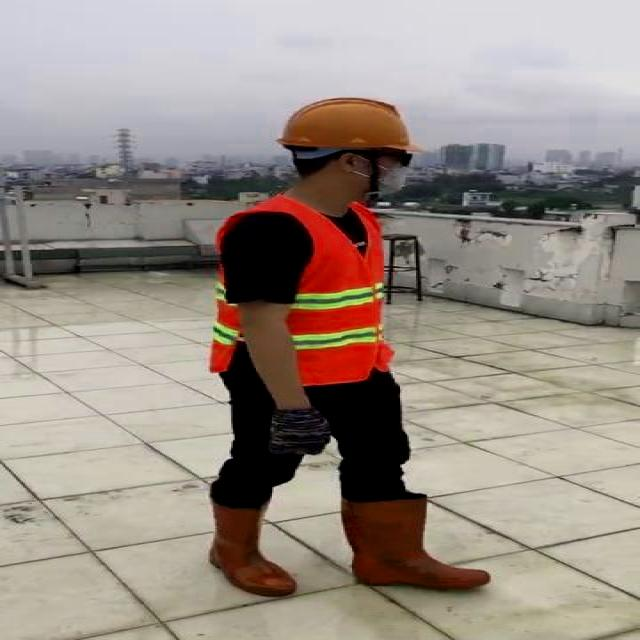boots: (340, 495, 494, 591), (206, 490, 295, 596)
face_mask: (350, 145, 416, 201)
hand_glove: (266, 407, 332, 453)
head_helmet: (276, 92, 416, 155)
person: (190, 88, 494, 608)
vest: (210, 195, 389, 382)
